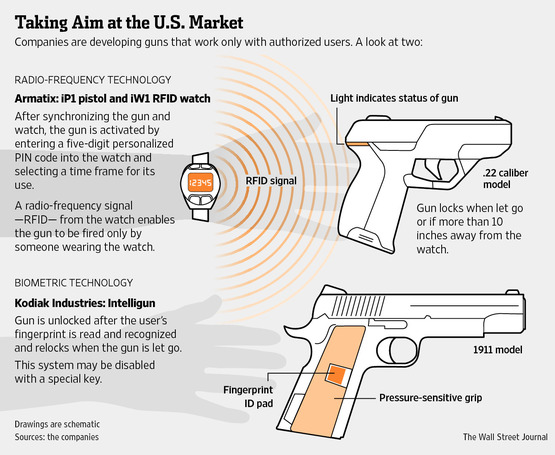gun: (272, 282, 533, 441), (332, 110, 522, 260)
